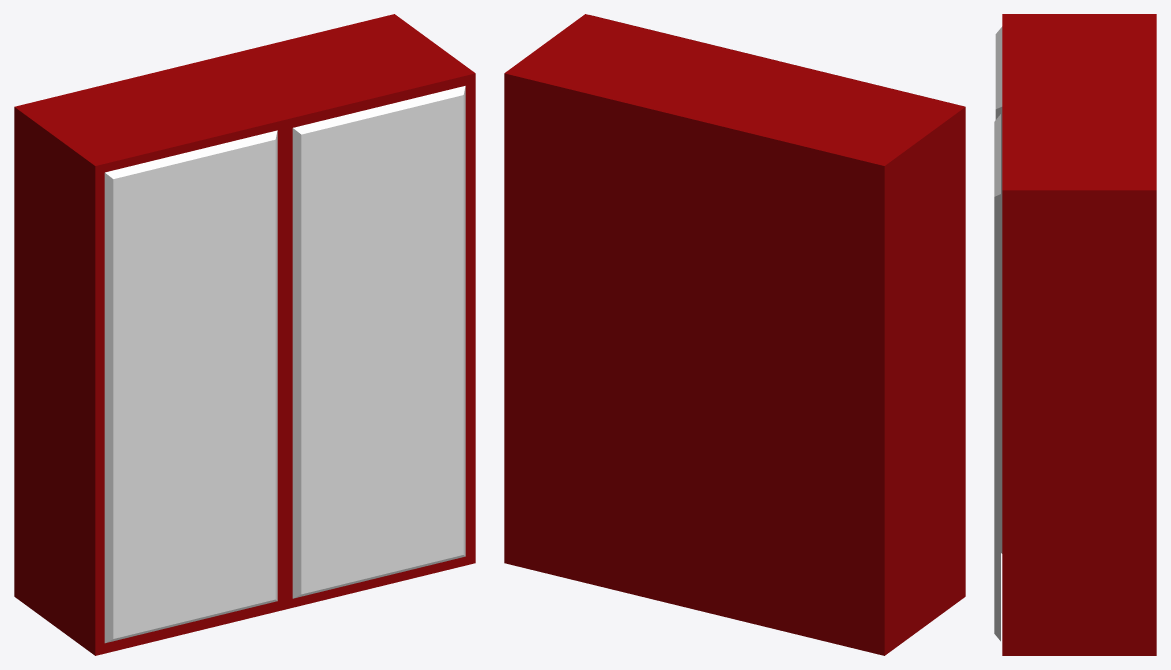
File: 消防柜.fbx
3 renders of one model, left to right at view 1: azimuth 30°, elevation 25°; view 2: azimuth 150°, elevation 25°; view 3: azimuth 270°, elevation 25°, orthographic. The views are drawn at different scales.
Visible parts, largest first — view 1: Rectangle002, Rectangle001, Box001; view 2: Box001; view 3: Box001, Rectangle002, Rectangle001.
Boxes of the visible parts, box(x1,y1,x2,y2) form: Rectangle002: box(284, 75, 473, 608); Rectangle001: box(96, 120, 285, 653); Box001: box(14, 14, 475, 655); Box001: box(504, 14, 965, 655); Box001: box(1002, 14, 1156, 655); Rectangle002: box(994, 114, 1000, 641); Rectangle001: box(995, 26, 1002, 553).
Bounding box in the file's own units: 650 × 800 × 252.
